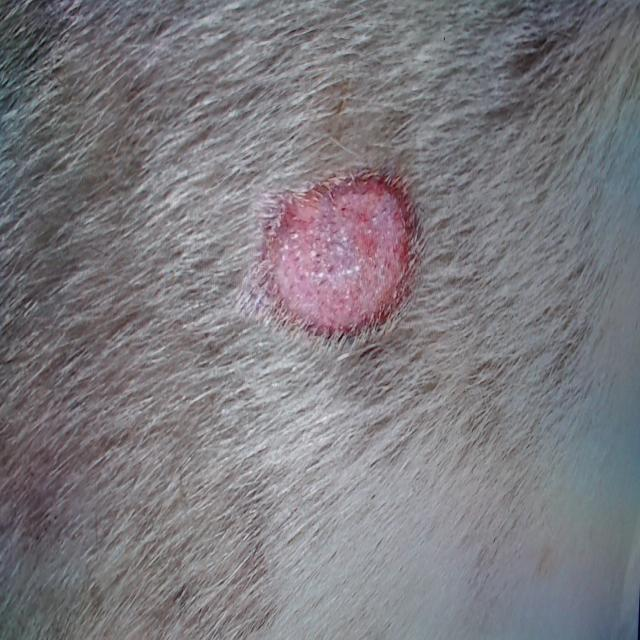ringworm: (224, 127, 431, 380)
